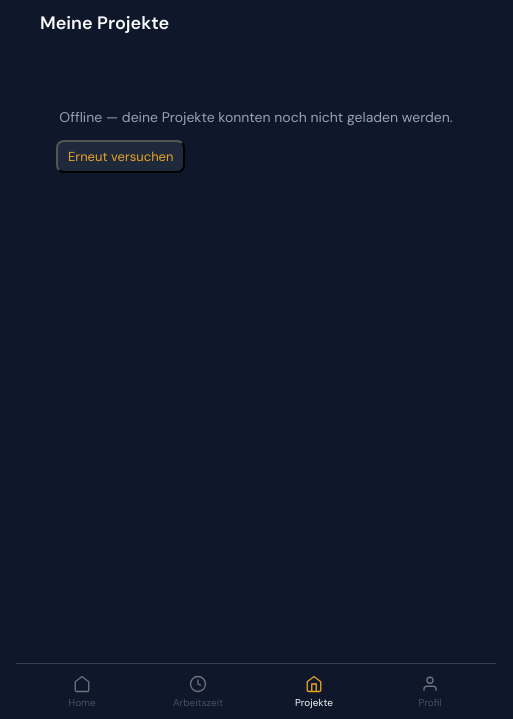
it: ProjekteScreen — offline lesen › lädt auf «Erneut versuchen» nach und zeigt dann die Liste
What coordinates should you click on to do the following:
click the button "Erneut versuchen"
I would click on:
 (121, 156)
Its box is [56,140,186,173].
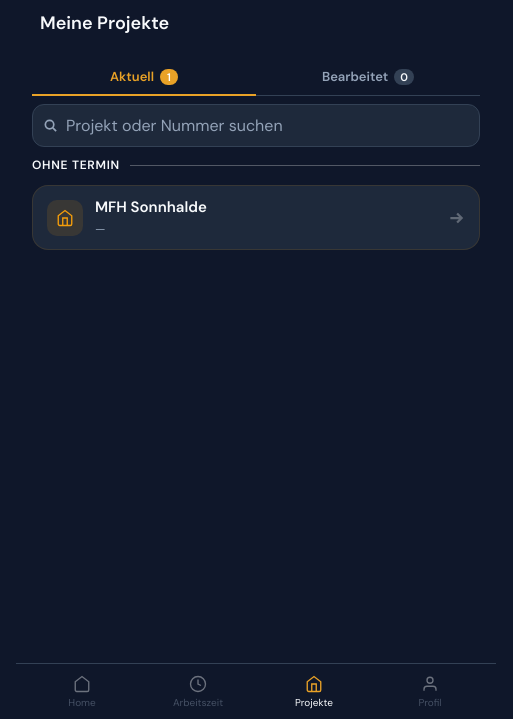
Expected: the text "MFH Sonnhalde" is shown, [95,197,207,217]
Expected: the button "Erneut versuchen" is gone
